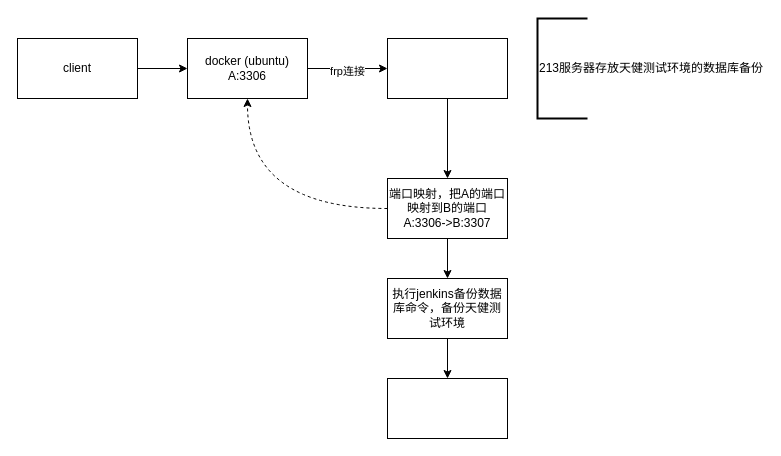
The diagram is 781 pixels wide and 456 high, and some of its shapes have lost their labels. The shapes that lost their labels are listed below. From the top down, each one's box as (x1, y1, x2, y2) in pixels, then its label:
(386, 38, 508, 98): 213服务器 B(3307)
(386, 378, 508, 438): 通过jenkins的job执行还原命令，把备份文件导到A:3306（mysql）
